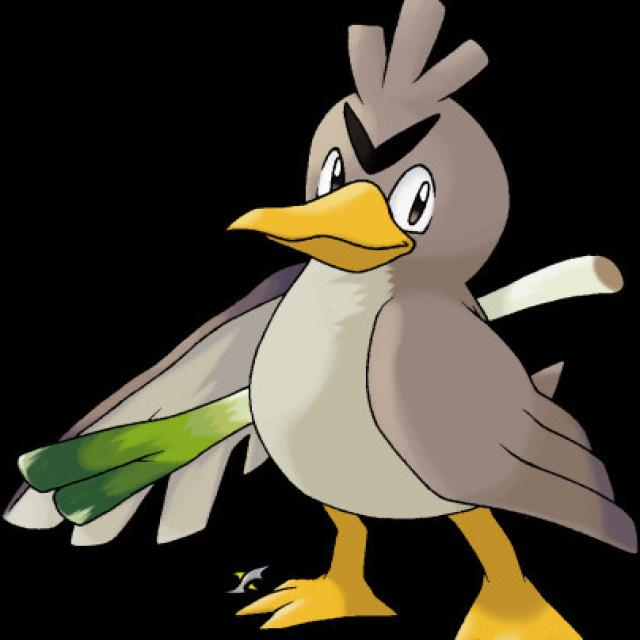Farfetchd: (138, 19, 608, 624)
